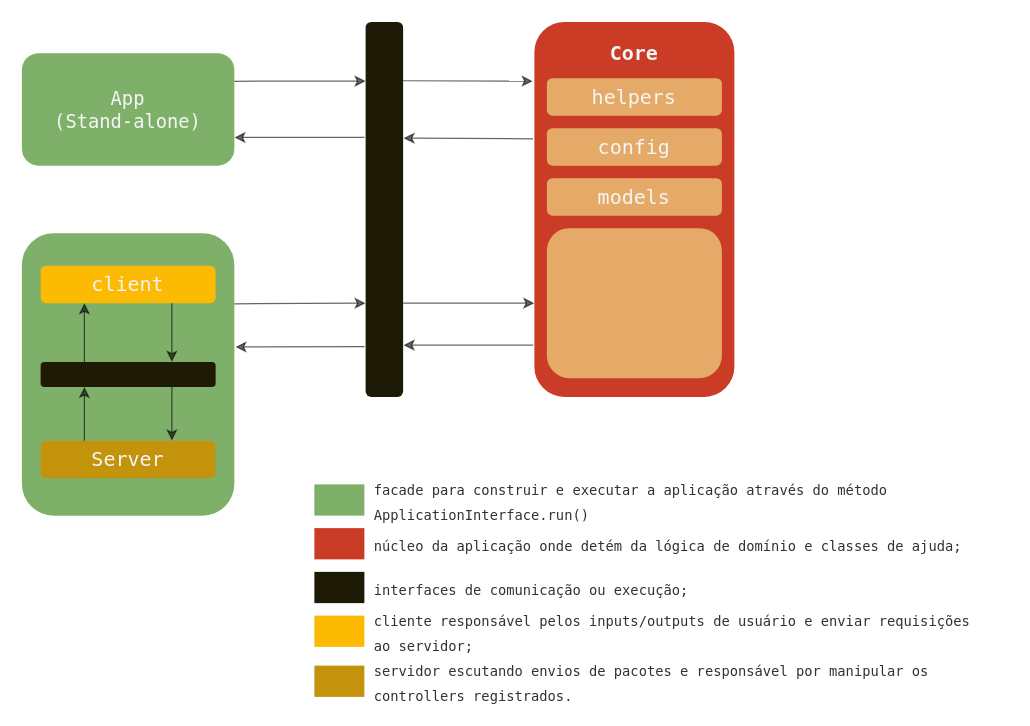
Image size: 1030x726. Some labels were removed from this diagram. Each missing label, with the centre of its shape:
"ApplicationInterface" goes at (383,208).
"controllers" goes at (633,303).
"ServiceLayer" goes at (127,373).
